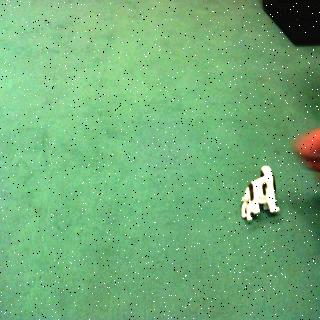dog: (237, 161, 283, 230)
